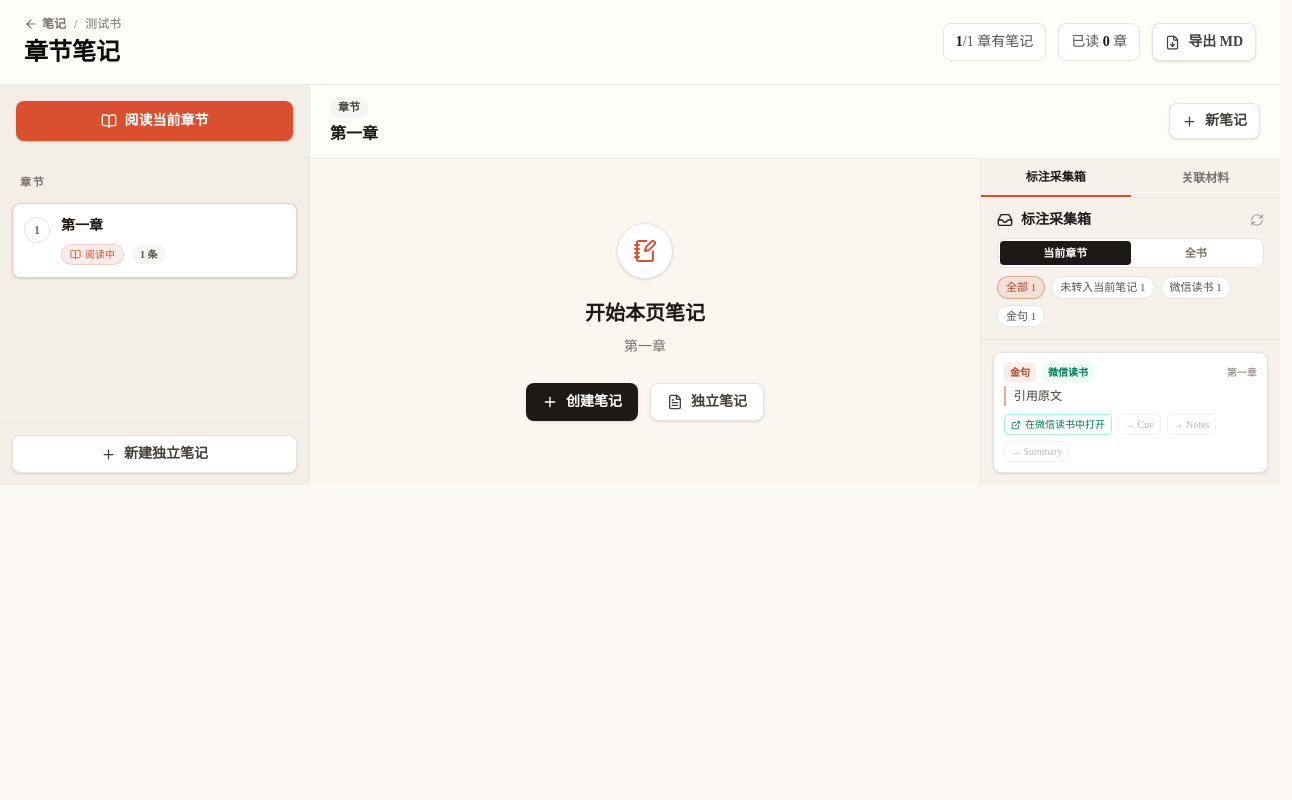
Scenario: BookNotesView annotation intake › uses the current chapter by default and can expand the inbox to the whole book
expect the text "引用原文" is shown: met, box [1004,386,1257,406]
expect the text "第二章引用" is not shown: met
Click the button "全书" at (1196,253), box [1130,240,1261,265]
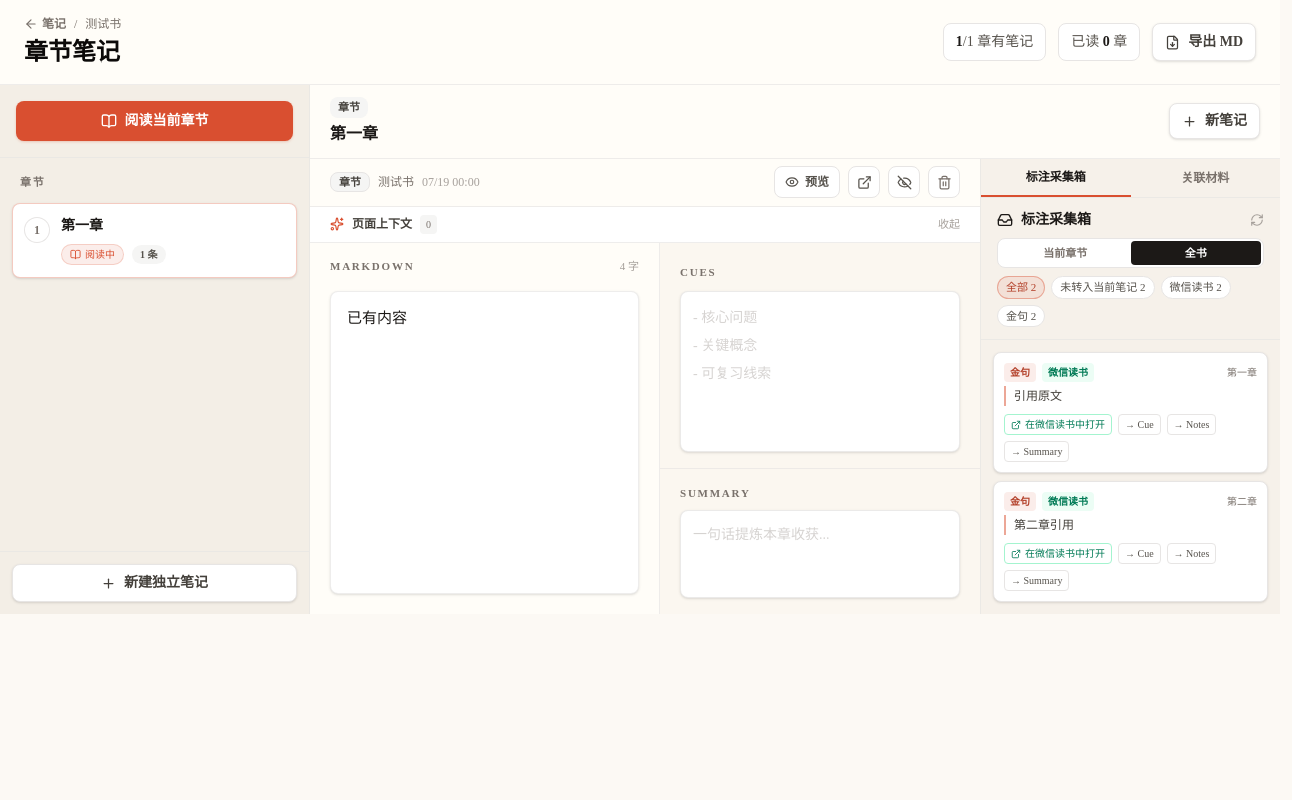
expect the text "第二章引用" is shown: met, box [1004,515,1257,535]
expect the button "全部 2" is shown: met, box [997,276,1045,298]
